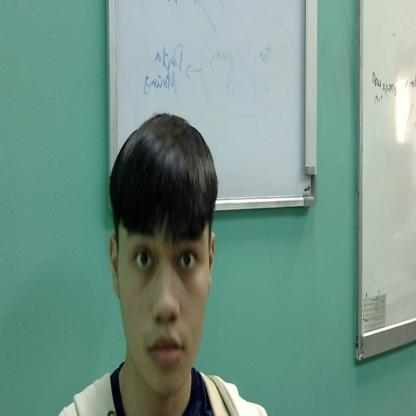Open-Eyes: (125, 219, 205, 287)
